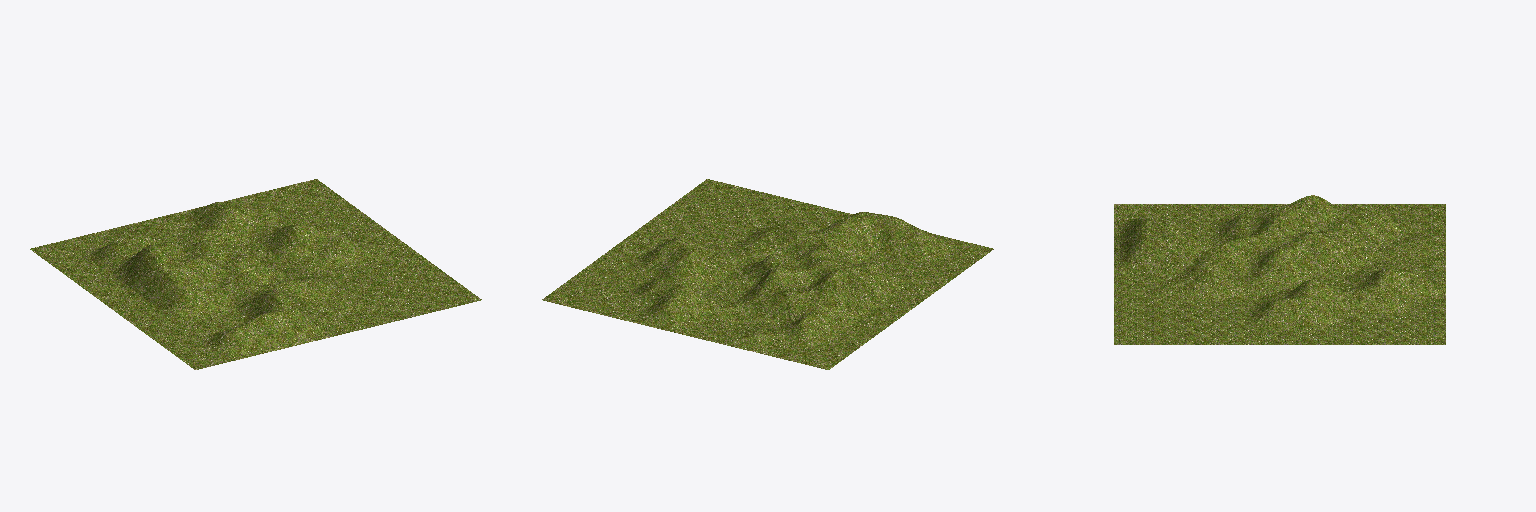
3 views of the same model, side by side, from view 1: azimuth 30°, elevation 25°; view 2: azimuth 150°, elevation 25°; view 3: azimuth 270°, elevation 25° (orthographic).
Parts seen in each view (by area): view 1: Plane01; view 2: Plane01; view 3: Plane01.
Part boxes in pixels (x1,y1,x2,y2): Plane01: (30, 179, 481, 369); Plane01: (542, 179, 993, 369); Plane01: (1114, 195, 1445, 344).
Size of the model in its own units: 11811 by 1477 by 11811.
1 materials, 1 textured.